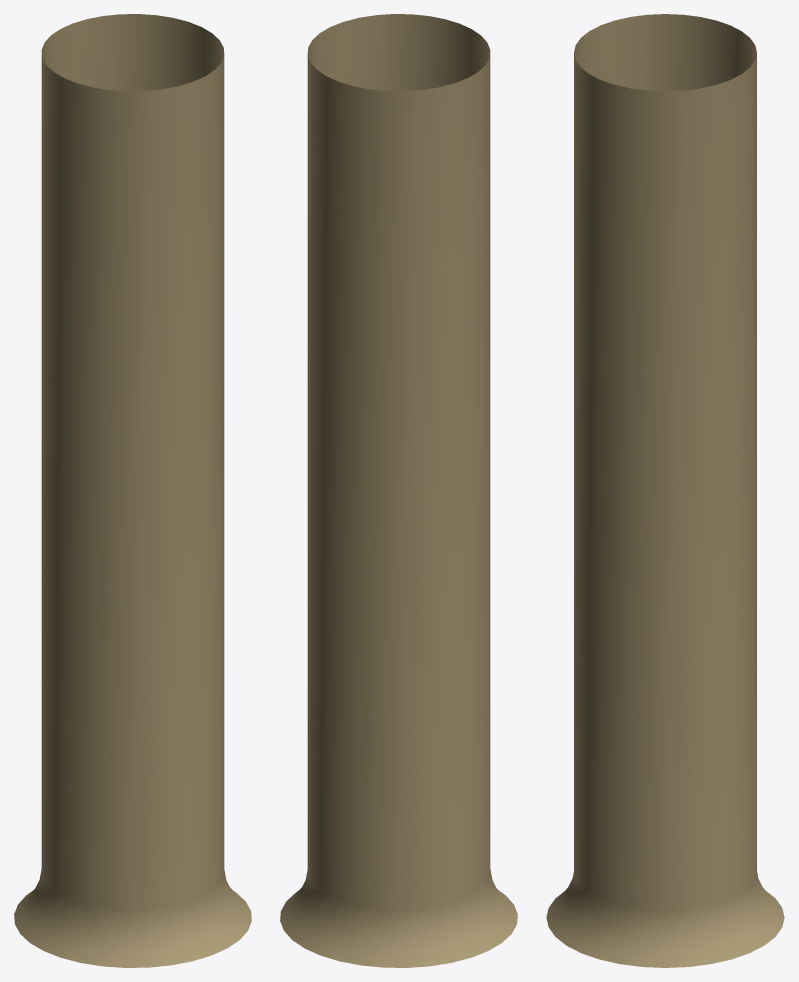
The model's file is column.glb.
3 views of the same model, side by side, from view 1: azimuth 30°, elevation 25°; view 2: azimuth 150°, elevation 25°; view 3: azimuth 270°, elevation 25° (orthographic).
Parts seen in each view (by area): view 1: Circle; view 2: Circle; view 3: Circle.
Boxes of the visible parts, box(x1,y1,x2,y2) form: Circle: box(14, 14, 251, 967); Circle: box(280, 14, 517, 967); Circle: box(546, 14, 784, 967).
Bounding box in the file's own units: 5.08 × 20.36 × 5.08.
